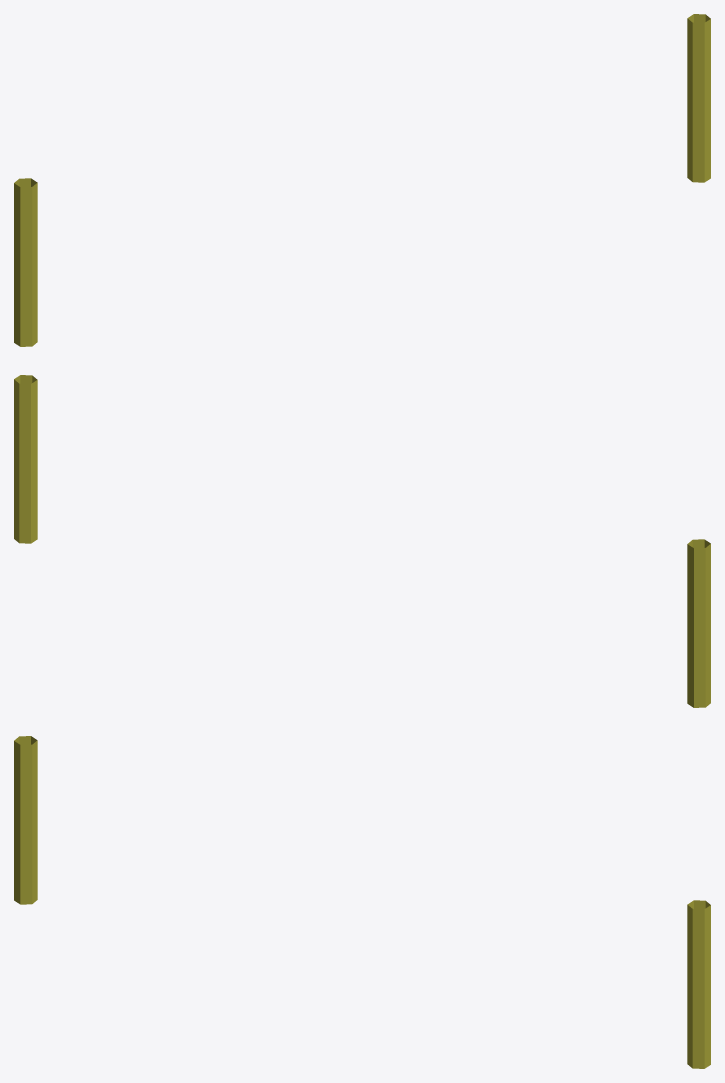
File: FacilityPillar_03_SM_Low.fbx
The picture shows the model from 3 angles, top to bottom: view 1: azimuth 30°, elevation 25°; view 2: azimuth 150°, elevation 25°; view 3: azimuth 330°, elevation 25°; orthographic projection.
Parts seen in each view (by area): view 1: facility_pillar_03_geo; view 2: facility_pillar_03_geo; view 3: facility_pillar_03_geo.
Boxes of the visible parts, x1,y1,x2,y2 form: facility_pillar_03_geo: (14, 14, 710, 346); facility_pillar_03_geo: (14, 375, 710, 707); facility_pillar_03_geo: (14, 736, 710, 1068).
Size of the model in its own units: 2092 by 461 by 61.77.
